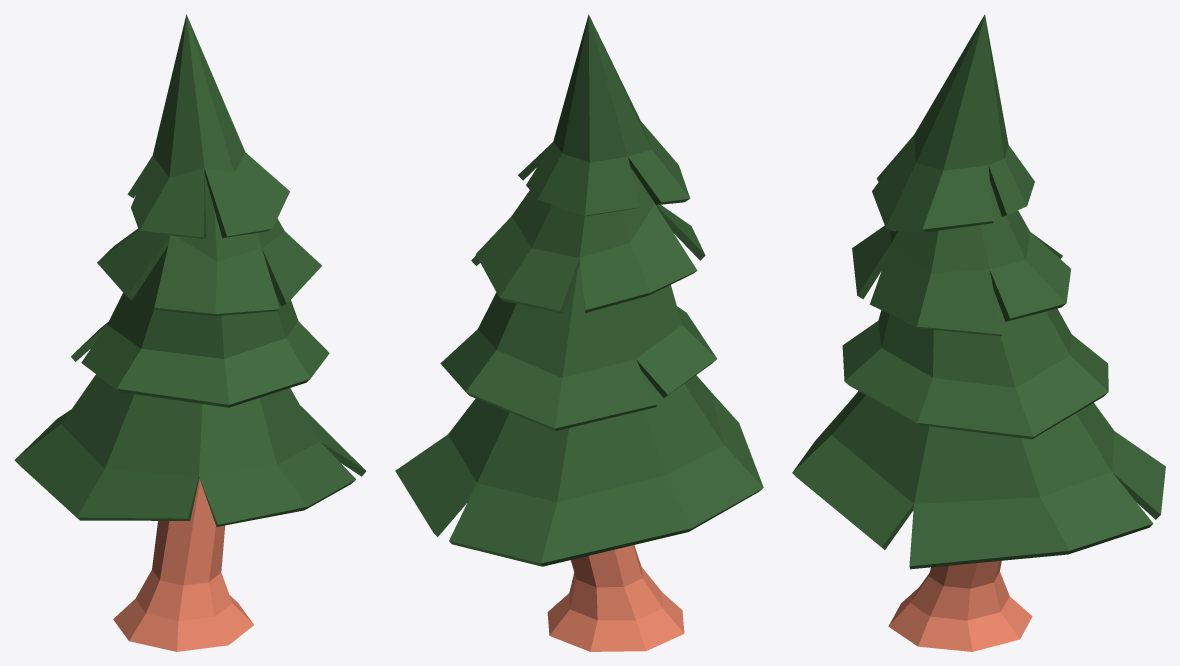
Rendered from Tree-2.fbx.
3 renders of one model, left to right at view 1: azimuth 30°, elevation 25°; view 2: azimuth 150°, elevation 25°; view 3: azimuth 270°, elevation 25°, orthographic. The views are drawn at different scales.
Parts seen in each view (by area): view 1: Tree-2; view 2: Tree-2; view 3: Tree-2.
Part boxes in pixels (left/top/right/bottom): Tree-2: left=14, top=14, right=366, bottom=651; Tree-2: left=395, top=14, right=763, bottom=651; Tree-2: left=792, top=14, right=1165, bottom=651.
Bounding box in the file's own units: 8.88 × 17.65 × 9.73.
